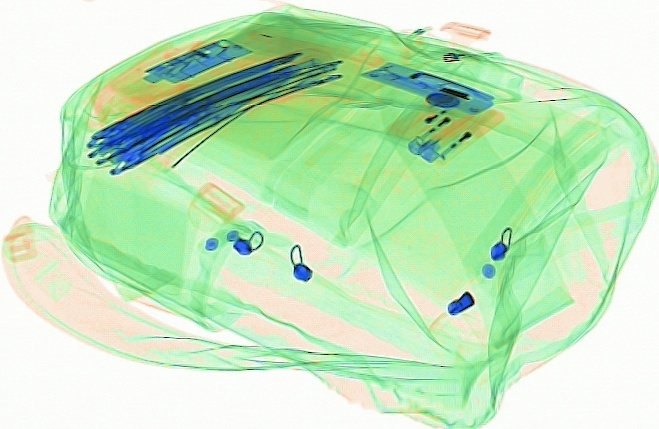lighter: (416, 104, 507, 165), (406, 96, 491, 154), (383, 88, 473, 141)
